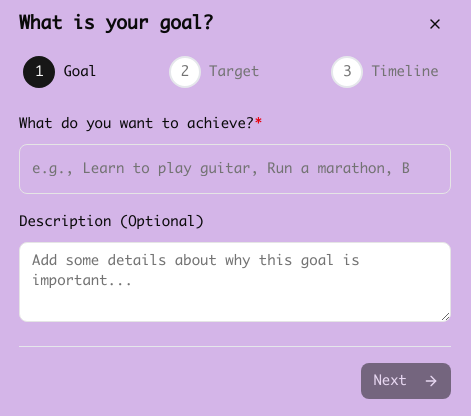
Test: InlineGoalCreation - Goal Validation › Client-side validation › shows valid state for proper goals without AI validation
Type "learn code" into the field with placeholder "Learn to play guitar".
click(235, 169); type("learn code")  # box [19,144,451,194]
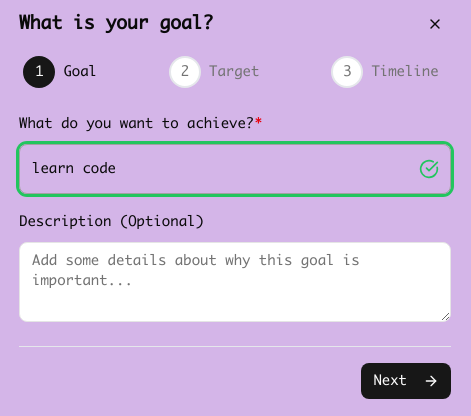
expect the button "Next" is enabled: met, box [361,363,451,399]
